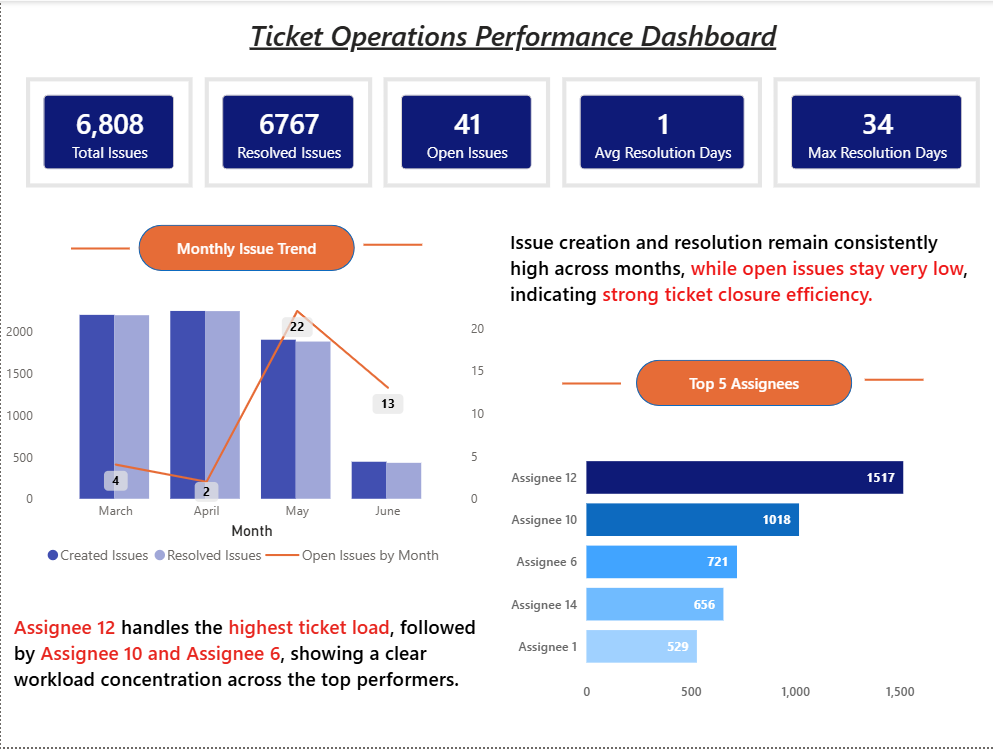

The page's visual inventory and layout, read from the dashboard file:
{"tool":"powerbi","page":{"name":"Ticket Overview","canvas":[960,720],"ordinal":0},"visuals":[{"type":"textbox","box":[200.3,9.7,587.5,55.5],"z":0},{"type":"cardVisual","fields":{"Data":["CountNonNull(Sheet1.Issue id)"]},"box":[24.1,73.6,160.5,106.2],"z":1000},{"type":"cardVisual","fields":{"Data":["Avg(Sheet1.Duration_Days)"]},"box":[541.1,73.6,193,106.2],"z":2000},{"type":"cardVisual","fields":{"Data":["Max(Sheet1.Duration_Days)"]},"box":[745.6,73.6,199.1,106.2],"z":3000},{"type":"cardVisual","fields":{"Data":["CountNonNull(Sheet1.Updated Status)"]},"box":[196,73.6,161.7,106.2],"z":4000},{"type":"cardVisual","fields":{"Data":["CountNonNull(Sheet1.Updated Status)"]},"box":[369.2,73.6,160.5,106.2],"z":5000},{"type":"lineClusteredColumnComboChart","fields":{"Category":["Date.Month"],"Y":["Dataset.Created Issues","Dataset.Resolved Issues"],"Y2":["Dataset.Open Issues by Month"]},"box":[0,276.3,471.7,277.5],"z":6000},{"type":"shape","box":[132.7,216,208.7,44.6],"z":7000},{"type":"shape","box":[67.6,219.6,56.7,38.6],"z":8000},{"type":"shape","box":[349.9,216,56.7,38.6],"z":9000},{"type":"barChart","fields":{"Category":["Dataset.Assignee Label"],"Y":["CountNonNull(Dataset.Issue id)"]},"box":[486.2,415,445.2,270.2],"z":10000},{"type":"shape","box":[612.9,346.2,208.7,44.6],"z":11000},{"type":"shape","box":[541.7,349.9,56.7,38.6],"z":12000},{"type":"shape","box":[833.7,346.2,56.7,38.6],"z":13000},{"type":"textbox","box":[486.2,214.7,459.7,86.9],"z":13001},{"type":"textbox","box":[7.2,586.3,459.7,86.9],"z":13002}]}

Visuals, with their boxes in screenshot pixels (x1, y1, x2, y2), scaled from the page's 960x720 canvas onto the 993x750 screenshot:
textbox: pyautogui.locateOnScreen(207, 10, 815, 68)
cardVisual - CountNonNull(Sheet1.Issue id): pyautogui.locateOnScreen(25, 77, 191, 187)
cardVisual - Avg(Sheet1.Duration_Days): pyautogui.locateOnScreen(560, 77, 759, 187)
cardVisual - Max(Sheet1.Duration_Days): pyautogui.locateOnScreen(771, 77, 977, 187)
cardVisual - CountNonNull(Sheet1.Updated Status): pyautogui.locateOnScreen(203, 77, 370, 187)
cardVisual - CountNonNull(Sheet1.Updated Status): pyautogui.locateOnScreen(382, 77, 548, 187)
lineClusteredColumnComboChart - Date.Month x Dataset.Created Issues: pyautogui.locateOnScreen(0, 288, 488, 577)
shape: pyautogui.locateOnScreen(137, 225, 353, 271)
shape: pyautogui.locateOnScreen(70, 229, 129, 269)
shape: pyautogui.locateOnScreen(362, 225, 421, 265)
barChart - Dataset.Assignee Label x CountNonNull(Dataset.Issue id): pyautogui.locateOnScreen(503, 432, 963, 714)
shape: pyautogui.locateOnScreen(634, 361, 850, 407)
shape: pyautogui.locateOnScreen(560, 364, 619, 405)
shape: pyautogui.locateOnScreen(862, 361, 921, 401)
textbox: pyautogui.locateOnScreen(503, 224, 978, 314)
textbox: pyautogui.locateOnScreen(7, 611, 483, 701)
